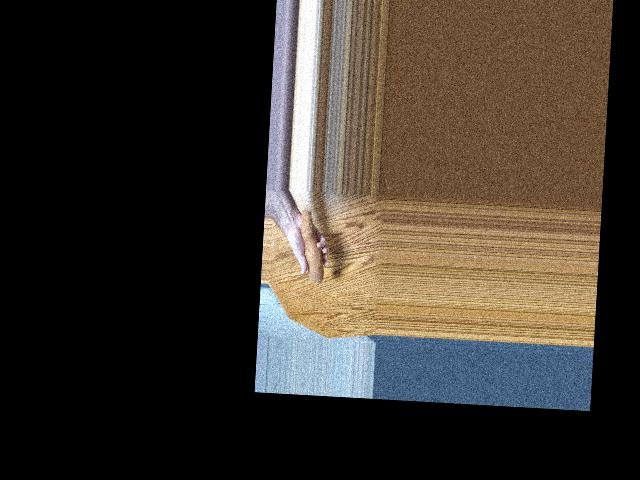sweet_potato: (296, 211, 327, 285)
